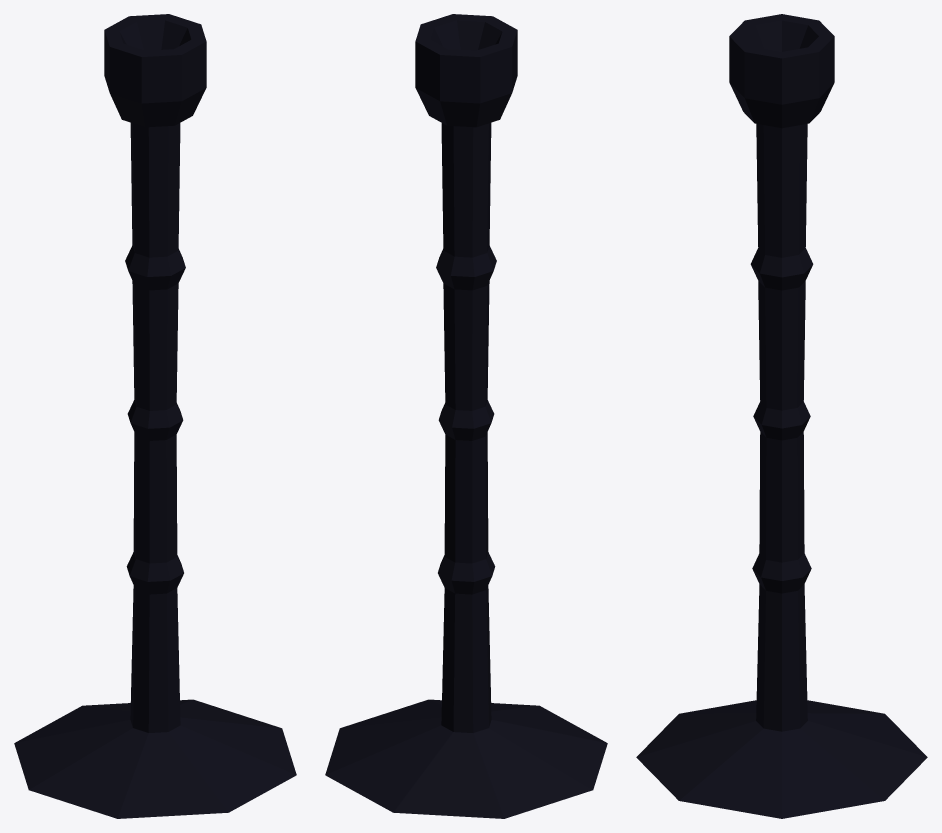
The model's file is candlestick.fbx.
The picture shows the model from 3 angles, left to right: view 1: azimuth 30°, elevation 25°; view 2: azimuth 150°, elevation 25°; view 3: azimuth 270°, elevation 25°; orthographic projection.
Parts seen in each view (by area): view 1: candlestick; view 2: candlestick; view 3: candlestick.
Part boxes in pixels (<box>): candlestick: <box>14,14,296,818</box>; candlestick: <box>325,14,607,818</box>; candlestick: <box>636,14,927,818</box>.
Bounding box in the file's own units: 50.7 × 138 × 50.7.
1 material, 1 textured.
